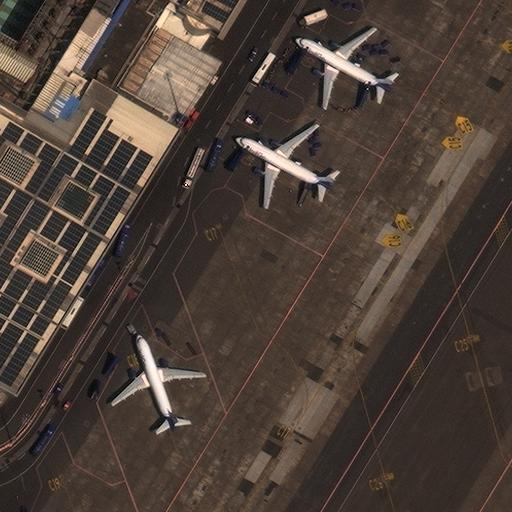Medium Civil Transport: (110, 335, 204, 430), (235, 123, 328, 207), (295, 28, 391, 107)
